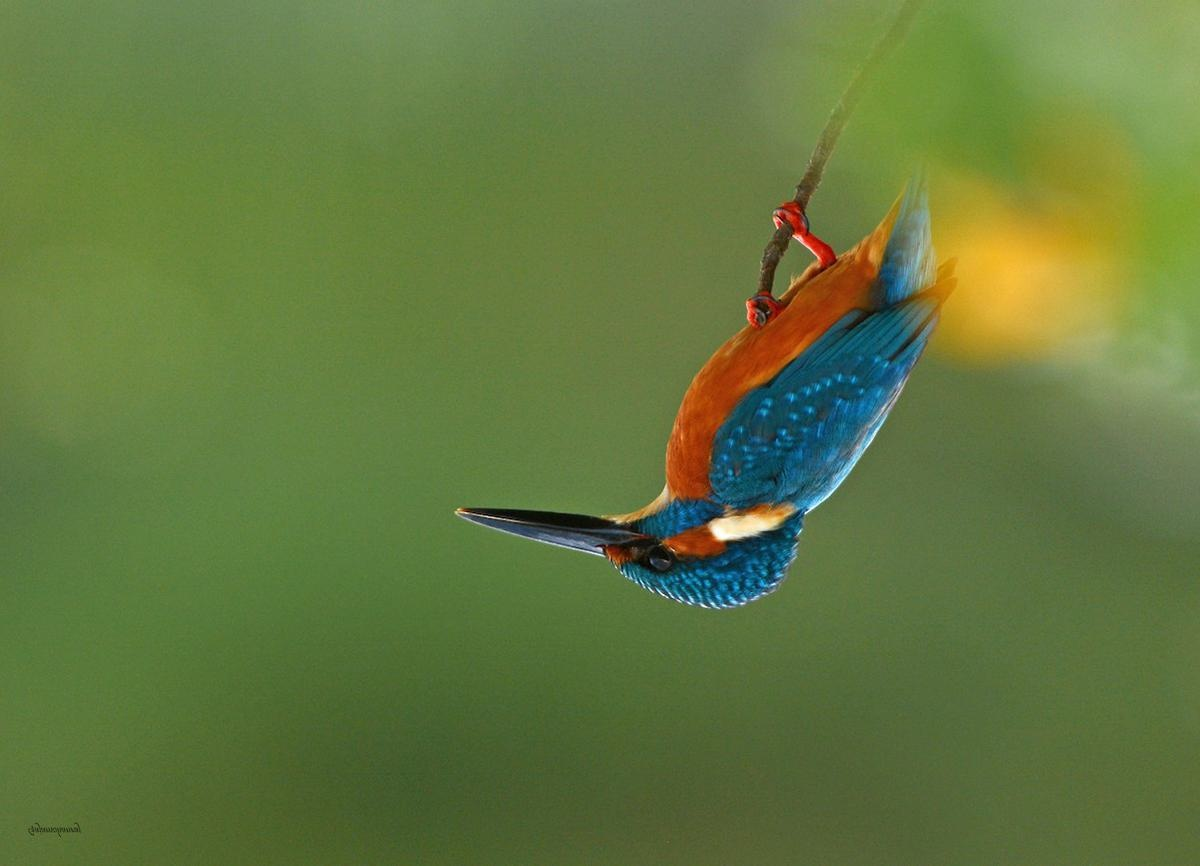kingfisher: (447, 170, 966, 620)
